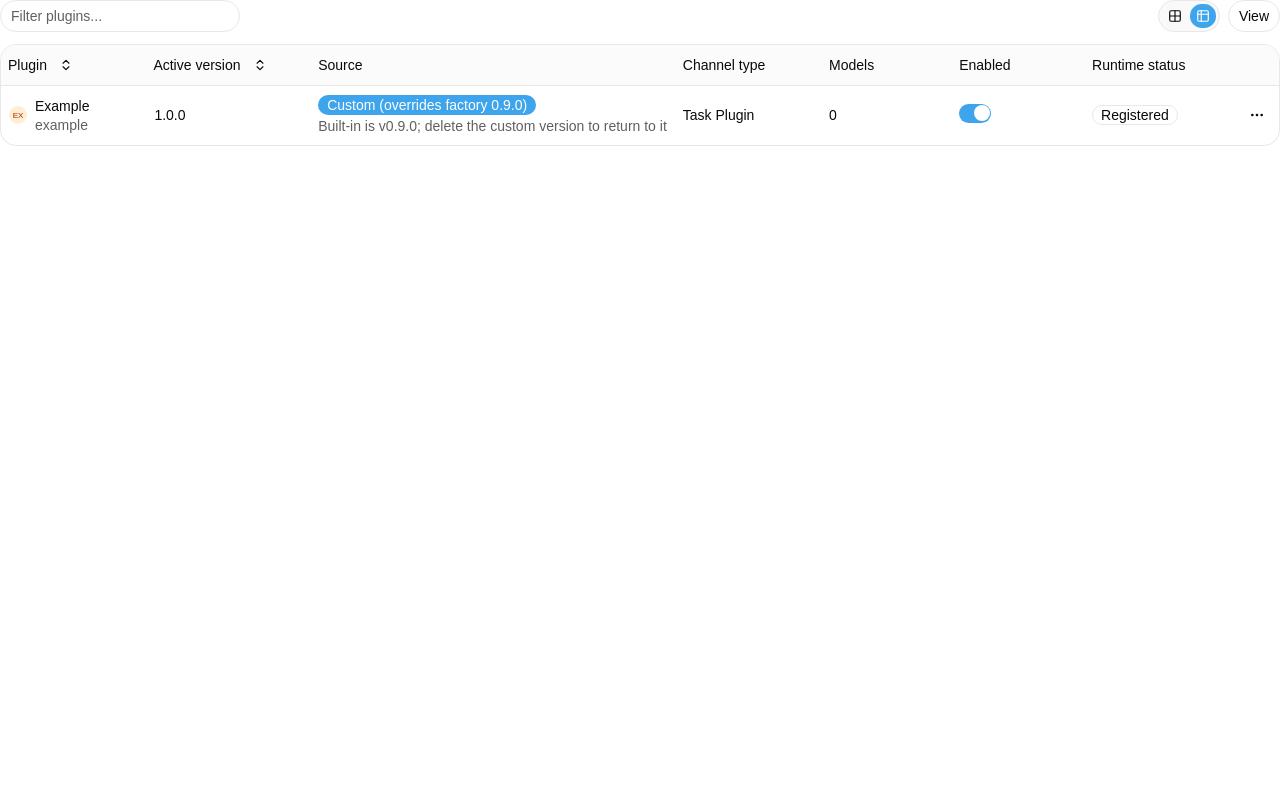
Scenario: override_over_factory deletion protects the factory plugin while allowing custom version removal
Click the button named "Open menu".
click(1257, 115)  # box [1243,101,1271,129]
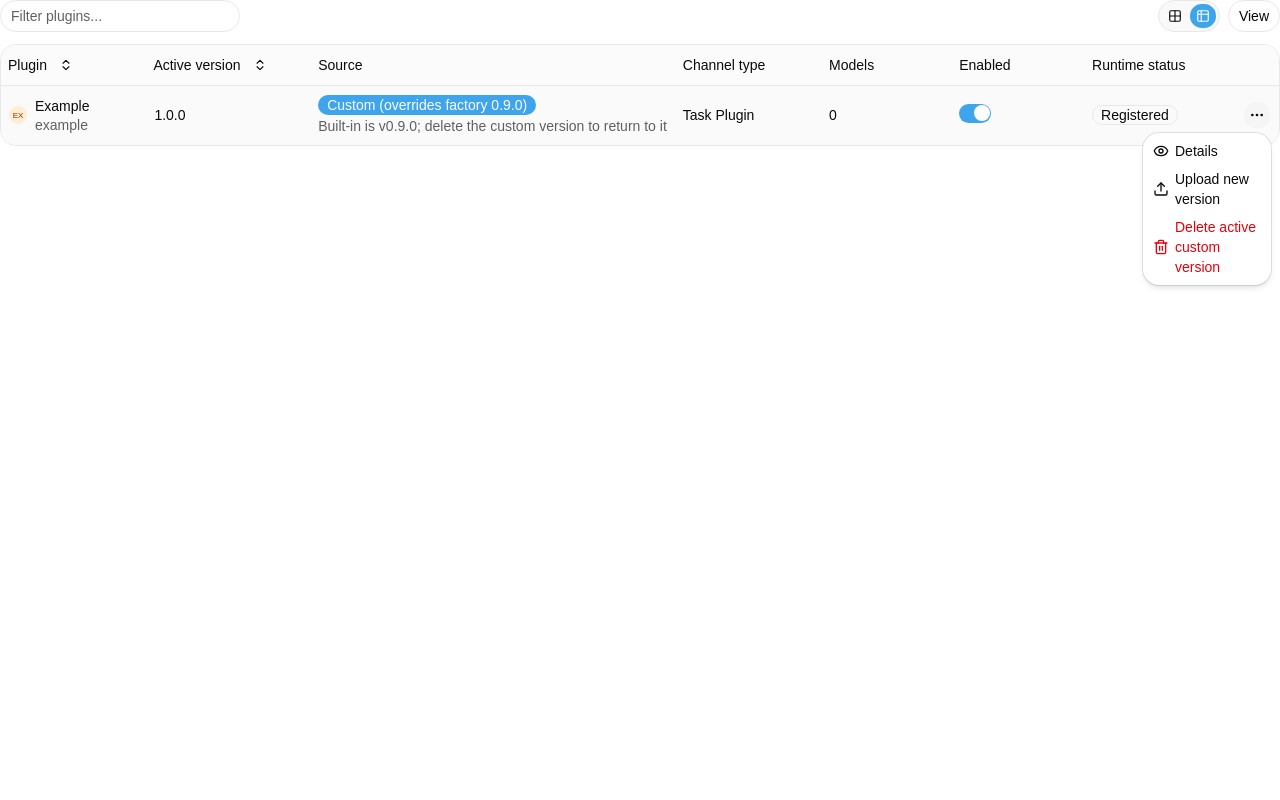
Click the menu item "Delete active custom version".
click(1207, 247)  # box [1147,213,1267,281]
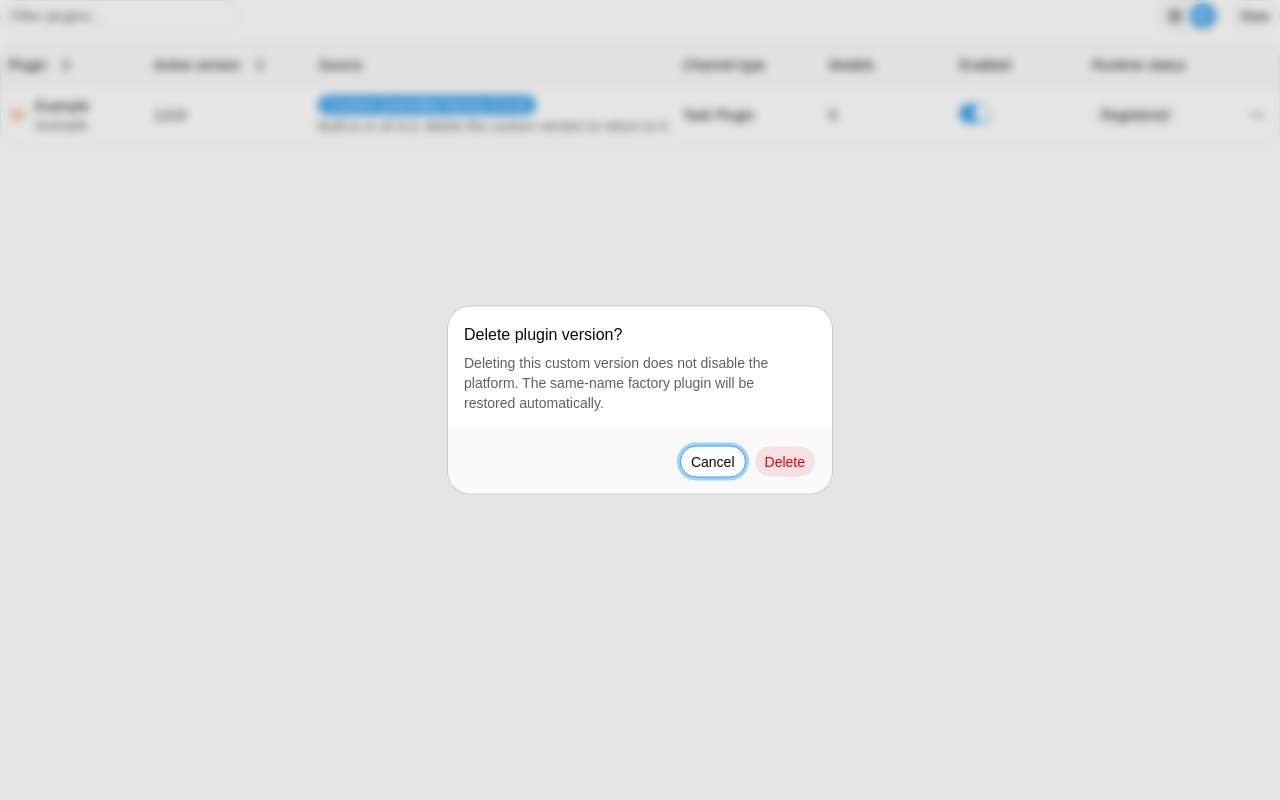
Check: the dialog "Delete plugin version?" is shown, box [448,306,832,494]
